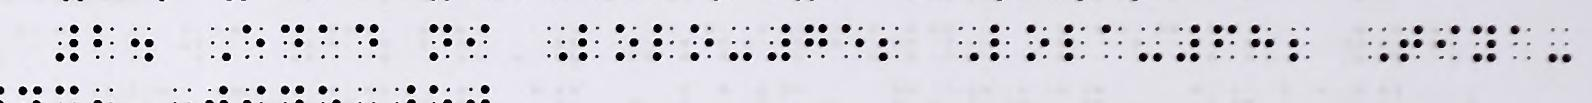capital_sign: (1368, 27, 1389, 62), (547, 25, 568, 61), (958, 25, 979, 61), (211, 27, 230, 61)
digit_2: (92, 23, 114, 59)
digit_5: (842, 22, 864, 59)
digit_6: (1213, 23, 1238, 59)
digit_7: (805, 23, 827, 59)
digit_8: (1251, 24, 1274, 59)
letter_E: (242, 23, 265, 59)
letter_L: (578, 23, 599, 61), (990, 23, 1010, 61)
letter_T: (1399, 24, 1423, 62)
letter_a: (318, 23, 339, 59), (1102, 23, 1122, 59), (1511, 24, 1531, 60)
letter_d: (281, 23, 304, 59), (355, 23, 378, 59)
letter_i: (466, 23, 490, 59), (1437, 24, 1460, 60)
letter_l: (653, 23, 674, 61), (1064, 23, 1085, 61)
letter_n: (428, 23, 452, 61)
letter_o: (689, 24, 714, 61), (615, 23, 639, 61), (1026, 23, 1050, 61)
letter_y: (1473, 25, 1497, 62)
number_sign: (55, 23, 79, 62), (1176, 23, 1200, 62), (767, 23, 791, 61)
